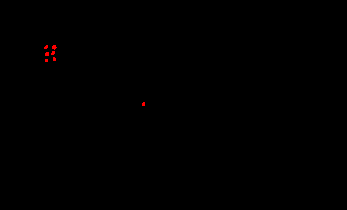Target: (52, 45, 57, 50), (44, 45, 48, 49), (51, 51, 55, 55), (45, 52, 49, 56), (53, 57, 56, 61), (142, 102, 145, 106), (45, 59, 48, 62)
